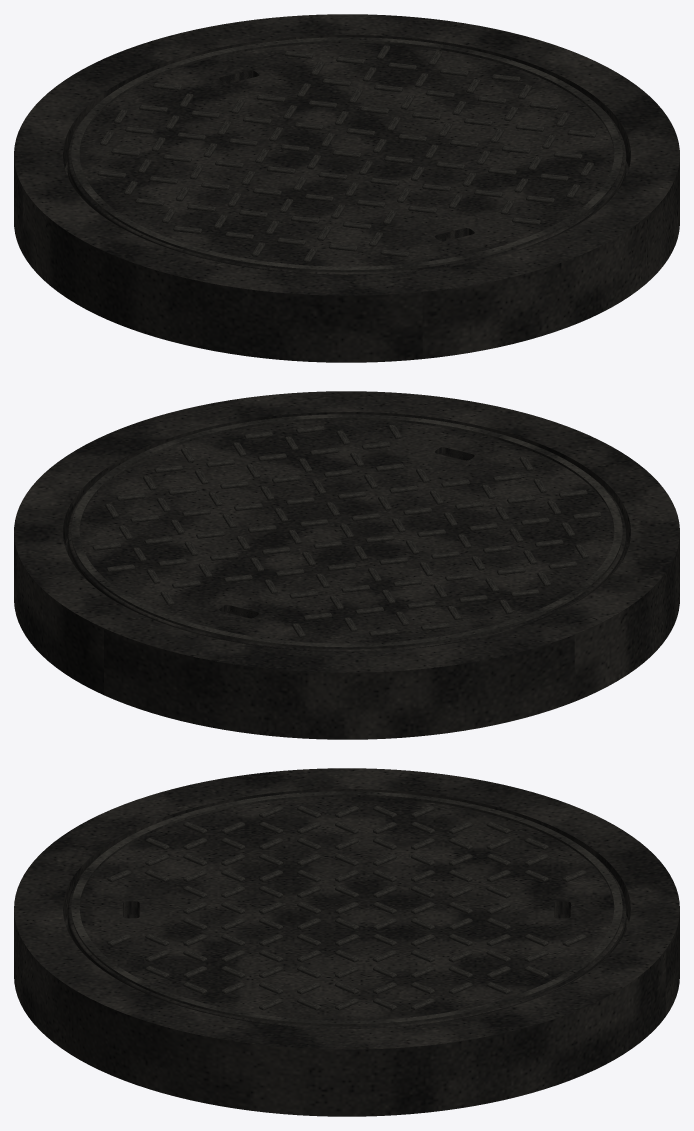
File: cast_iron_manhole.glb
3 views of the same model, one above another, from view 1: azimuth 30°, elevation 25°; view 2: azimuth 150°, elevation 25°; view 3: azimuth 270°, elevation 25° (orthographic).
Parts seen in each view (by area): view 1: Outer support frame, Separate cast cover plate, Cover raised perimeter rim; view 2: Outer support frame, Separate cast cover plate, Cover raised perimeter rim; view 3: Outer support frame, Separate cast cover plate, Cover raised perimeter rim.
Boxes of the visible parts, x1,y1,x2,y2 form: Outer support frame: (14,14,679,362); Separate cast cover plate: (67,42,626,274); Cover raised perimeter rim: (71,37,622,272); Outer support frame: (14,391,679,739); Separate cast cover plate: (67,419,626,651); Cover raised perimeter rim: (71,414,622,649); Outer support frame: (14,768,679,1116); Separate cast cover plate: (67,797,626,1028); Cover raised perimeter rim: (71,791,622,1026).
Size of the model in its own units: 0.72 by 0.083 by 0.72.
Materials: 2 (2 with a texture image).
